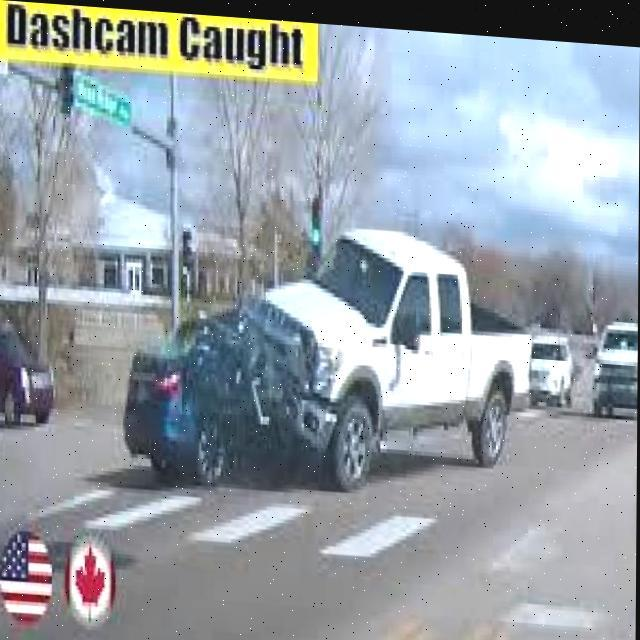multiple_accident: (99, 196, 506, 513)
normal: (527, 311, 640, 426)
